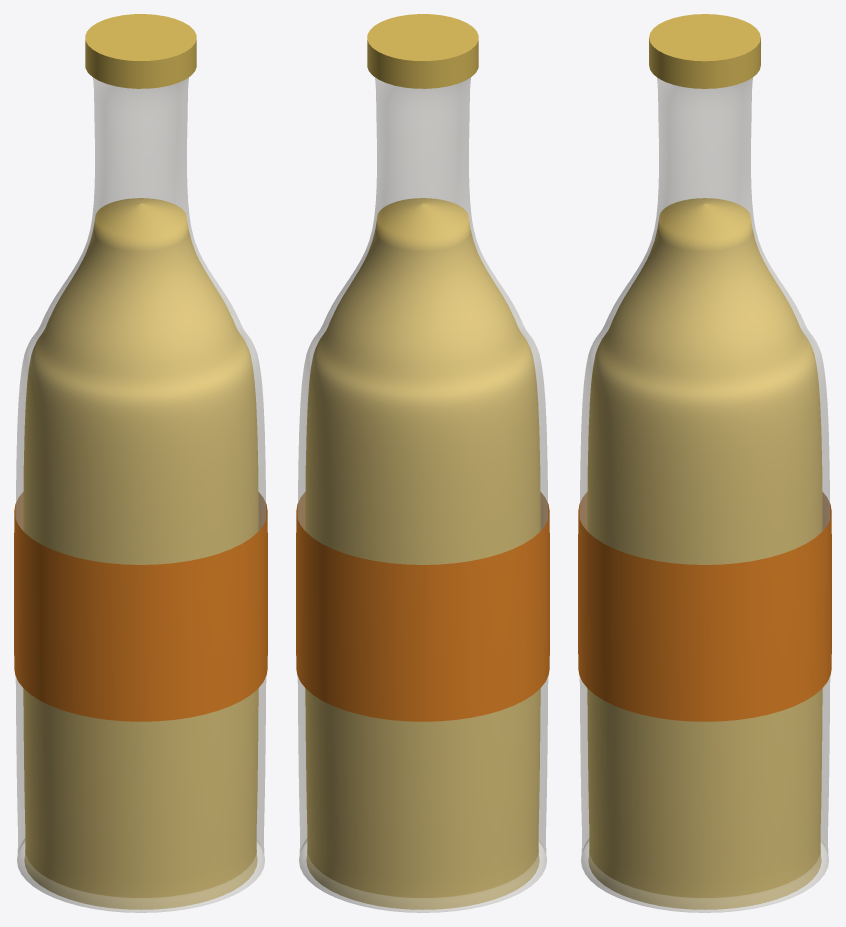
Rendered from solecita.glb.
3 renders of one model, left to right at view 1: azimuth 30°, elevation 25°; view 2: azimuth 150°, elevation 25°; view 3: azimuth 270°, elevation 25°, orthographic.
Parts seen in each view (by area): view 1: vidrio, liquido, etiqueta, tapa; view 2: vidrio, liquido, etiqueta, tapa; view 3: vidrio, liquido, etiqueta, tapa.
Boxes of the visible parts, x1,y1,x2,y2 form: vidrio: (15, 77, 266, 912); liquido: (23, 198, 258, 909); etiqueta: (14, 492, 267, 721); tapa: (85, 14, 196, 88); vidrio: (297, 77, 548, 912); liquido: (305, 198, 540, 909); etiqueta: (296, 492, 549, 721); tapa: (367, 14, 478, 88); vidrio: (579, 77, 830, 912); liquido: (587, 198, 822, 909); etiqueta: (578, 492, 831, 721); tapa: (649, 14, 760, 88).
Bounding box in the file's own units: 0.0494 × 0.1767 × 0.0494.
